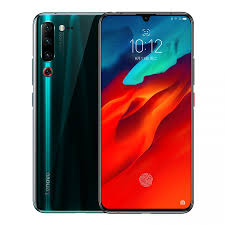lenovo: (95, 8, 197, 215)
